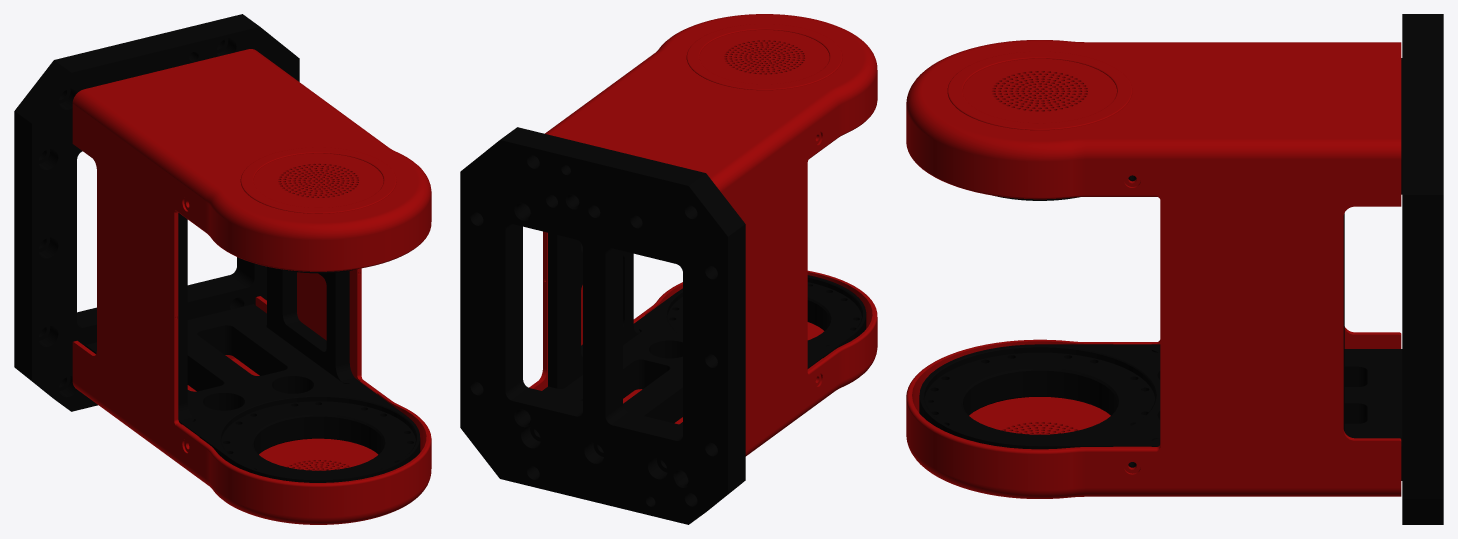
The picture shows the model from 3 angles, left to right: view 1: azimuth 30°, elevation 25°; view 2: azimuth 150°, elevation 25°; view 3: azimuth 270°, elevation 25°; orthographic projection. The views are drawn at different scales.
Visible parts, largest first — view 1: base; view 2: base; view 3: base.
Part boxes in pixels (x1,y1,x2,y2): base: (14,14,431,524); base: (460,14,877,524); base: (906,14,1443,524).
Bounding box in the file's own units: 0.19 × 0.23 × 0.2789.
